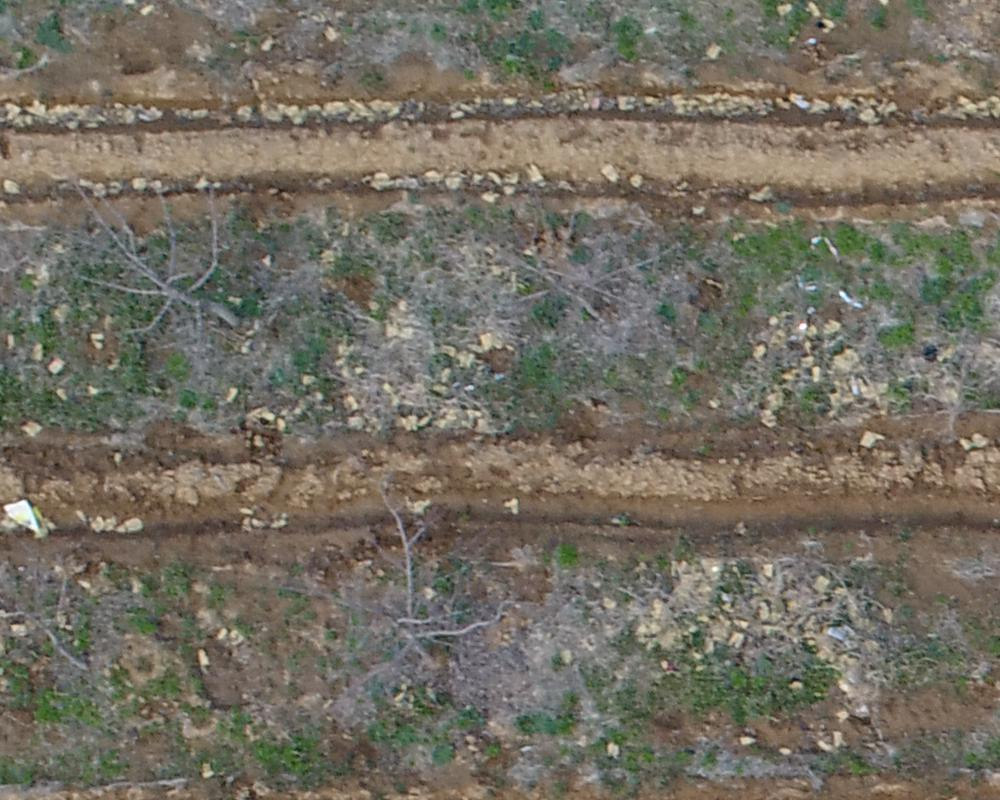apple: (316, 473, 522, 693), (446, 186, 693, 357), (43, 178, 279, 352), (10, 545, 137, 701)
